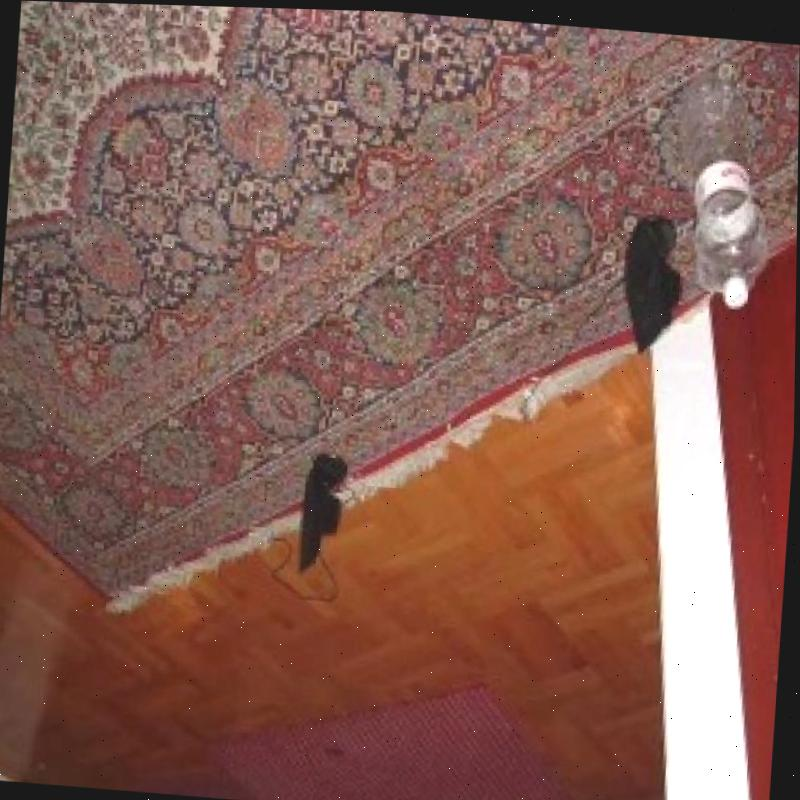botella: (677, 93, 765, 305)
